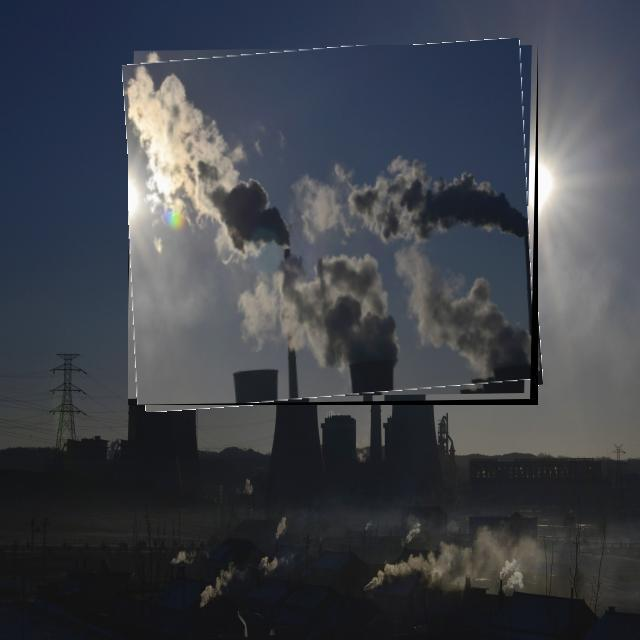smoke: (133, 71, 291, 258), (225, 260, 395, 367), (338, 158, 526, 244), (394, 259, 530, 377), (295, 177, 352, 244)
